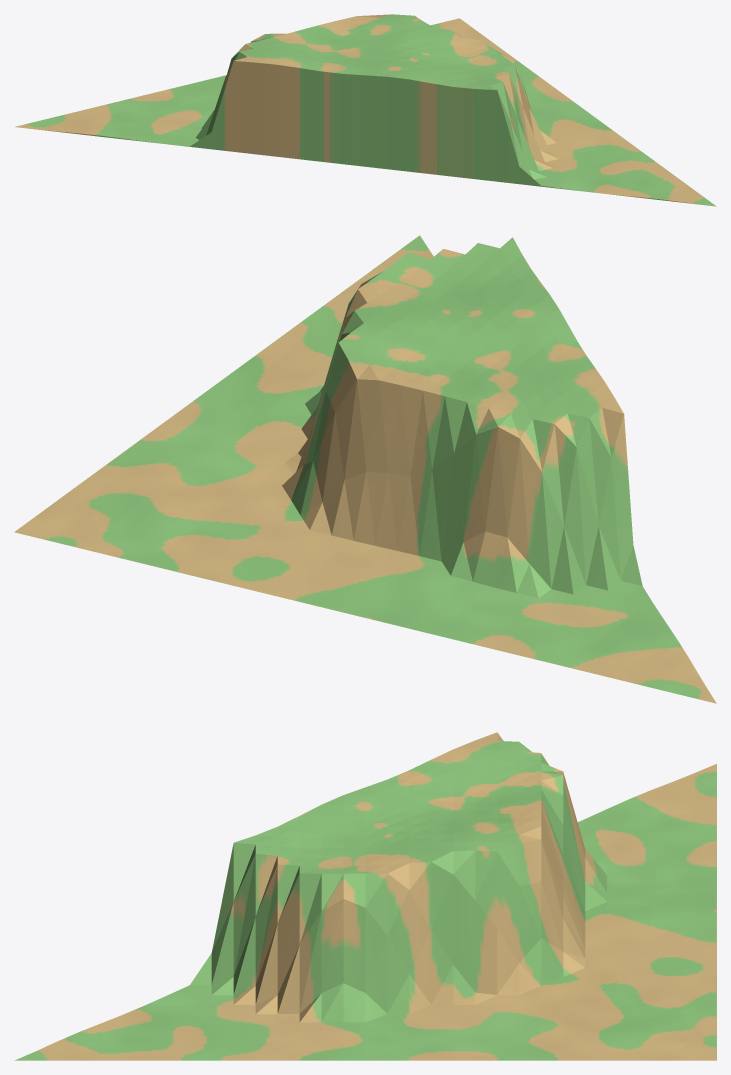
Rendered from Grass_Hills_08_SE.obj.
3 views of the same model, one above another, from view 1: azimuth 30°, elevation 25°; view 2: azimuth 150°, elevation 25°; view 3: azimuth 270°, elevation 25° (orthographic). The views are drawn at different scales.
Size of the model in its own units: 10 by 1.98 by 10.
1 material, 1 textured.
